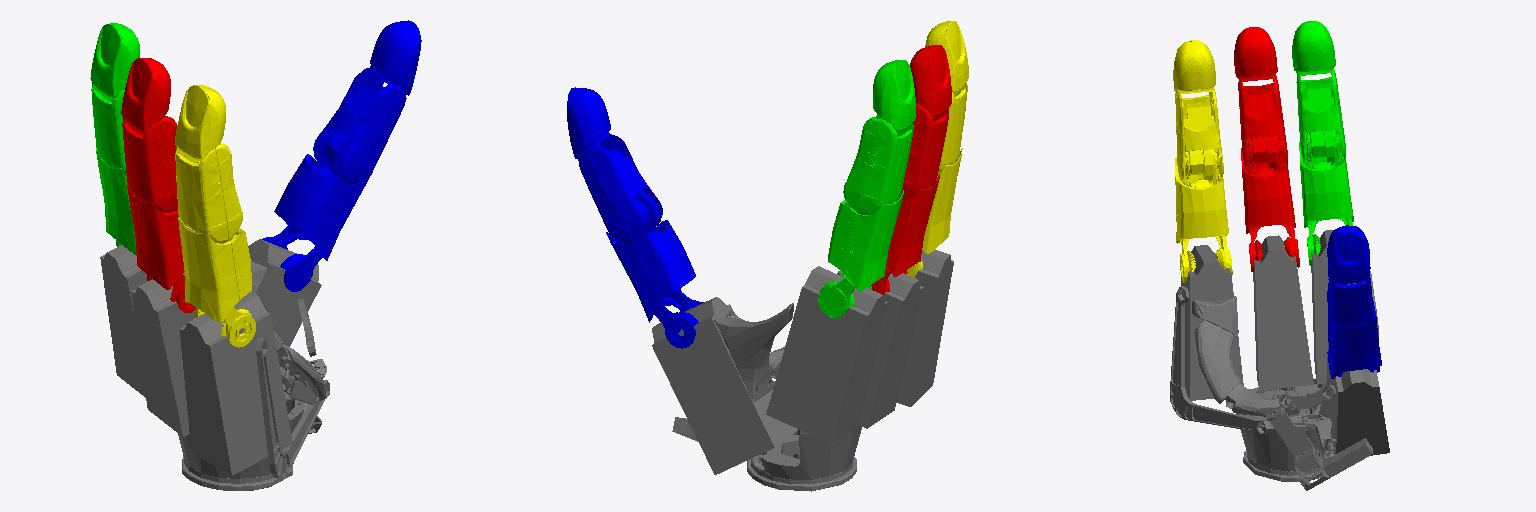
URDF robot description (hand):
<?xml version='1.0' encoding='UTF-8'?>
<robot name="hand">
  <link name="hand_base">
    <inertial>
      <origin xyz="0.0 0.0 0.0" rpy="0.0 -0.0 0.0"/>
      <mass value="1.0"/>
      <inertia ixx="0.0" ixy="0.0" ixz="0.0" iyy="0.0" iyz="0.0" izz="0.0"/>
    </inertial>
    <visual>
      <geometry>
        <mesh filename="meshes/full_hand_base_power_nosphere.obj"/>
      </geometry>
      <material name="hand_grey"/>
      <origin xyz="0.0 0.0 0.0" rpy="0.0 -0.0 0.0"/>
    </visual>
    <collision>
      <geometry>
        <mesh filename="meshes/full_hand_base_power_nosphere.obj"/>
      </geometry>
      <origin xyz="0.0 0.0 0.0" rpy="0.0 -0.0 0.0"/>
    </collision>
  </link>
  <link name="ringfinger_base_link">
    <inertial>
      <origin xyz="0.0 0.0 0.0" rpy="0.0 -0.0 0.0"/>
      <mass value="0.1"/>
      <inertia ixx="0.0" ixy="0.0" ixz="0.0" iyy="0.0" iyz="0.0" izz="0.0"/>
    </inertial>
  </link>
  <link name="ringfinger_proximal_link">
    <inertial>
      <origin xyz="0.0 0.0 0.0" rpy="0.0 -0.0 0.0"/>
      <mass value="0.0"/>
      <inertia ixx="0.0" ixy="0.0" ixz="0.0" iyy="0.0" iyz="0.0" izz="0.0"/>
    </inertial>
  </link>
  <link name="ringfinger_knuckle_link">
    <inertial>
      <origin xyz="0.0 0.0 0.0" rpy="0.0 -0.0 0.0"/>
      <mass value="0.1"/>
      <inertia ixx="0.0" ixy="0.0" ixz="0.0" iyy="0.0" iyz="0.0" izz="0.0"/>
    </inertial>
    <visual>
      <geometry>
        <mesh filename="meshes/finger_prox.stl"/>
      </geometry>
      <material name="hand_yellow"/>
      <origin xyz="0.0 0.0 0.0" rpy="-1.5707963267948966 0.0 0.0"/>
    </visual>
    <collision>
      <geometry>
        <mesh filename="meshes/finger_prox.stl"/>
      </geometry>
      <origin xyz="0.0 0.0 0.0" rpy="-1.5707963267948966 0.0 0.0"/>
    </collision>
  </link>
  <link name="ringfinger_middle_link">
    <inertial>
      <origin xyz="0.0 0.0 0.0" rpy="0.0 -0.0 0.0"/>
      <mass value="0.075"/>
      <inertia ixx="0.0" ixy="0.0" ixz="0.0" iyy="0.0" iyz="0.0" izz="0.0"/>
    </inertial>
    <visual>
      <geometry>
        <mesh filename="meshes/finger_med.stl"/>
      </geometry>
      <material name="hand_yellow"/>
      <origin xyz="0.0 0.0 0.0" rpy="-1.5707963267948966 0.0 0.0"/>
    </visual>
    <collision>
      <geometry>
        <mesh filename="meshes/finger_med.stl"/>
      </geometry>
      <origin xyz="0.0 0.0 0.0" rpy="-1.5707963267948966 0.0 0.0"/>
    </collision>
  </link>
  <link name="ringfinger_distal_link">
    <inertial>
      <origin xyz="0.0 0.0 0.0" rpy="0.0 -0.0 0.0"/>
      <mass value="0.025"/>
      <inertia ixx="0.0" ixy="0.0" ixz="0.0" iyy="0.0" iyz="0.0" izz="0.0"/>
    </inertial>
    <visual>
      <geometry>
        <mesh filename="meshes/finger_dist_cut_rot.stl" scale="0.001 0.001 0.001"/>
      </geometry>
      <material name="hand_yellow"/>
      <origin xyz="0.0 0.0 0.0" rpy="-1.5707963267948966 0.0 0.0"/>
    </visual>
    <collision>
      <geometry>
        <mesh filename="meshes/finger_dist_cut_rot.stl" scale="0.001 0.001 0.001"/>
      </geometry>
      <origin xyz="0.0 0.0 0.0" rpy="-1.5707963267948966 0.0 0.0"/>
    </collision>
  </link>
  <link name="ringfinger_virtual_distal_link">
    <inertial>
      <origin xyz="0.0 0.0 0.0" rpy="0.0 -0.0 0.0"/>
      <mass value="0.0"/>
      <inertia ixx="0.0" ixy="0.0" ixz="0.0" iyy="0.0" iyz="0.0" izz="0.0"/>
    </inertial>
  </link>
  <link name="middlefinger_base_link">
    <inertial>
      <origin xyz="0.0 0.0 0.0" rpy="0.0 -0.0 0.0"/>
      <mass value="0.1"/>
      <inertia ixx="0.0" ixy="0.0" ixz="0.0" iyy="0.0" iyz="0.0" izz="0.0"/>
    </inertial>
  </link>
  <link name="middlefinger_proximal_link">
    <inertial>
      <origin xyz="0.0 0.0 0.0" rpy="0.0 -0.0 0.0"/>
      <mass value="0.0"/>
      <inertia ixx="0.0" ixy="0.0" ixz="0.0" iyy="0.0" iyz="0.0" izz="0.0"/>
    </inertial>
  </link>
  <link name="middlefinger_knuckle_link">
    <inertial>
      <origin xyz="0.0 0.0 0.0" rpy="0.0 -0.0 0.0"/>
      <mass value="0.1"/>
      <inertia ixx="0.0" ixy="0.0" ixz="0.0" iyy="0.0" iyz="0.0" izz="0.0"/>
    </inertial>
    <visual>
      <geometry>
        <mesh filename="meshes/finger_prox.stl"/>
      </geometry>
      <material name="hand_red"/>
      <origin xyz="0.0 0.0 0.0" rpy="-1.5707963267948966 0.0 0.0"/>
    </visual>
    <collision>
      <geometry>
        <mesh filename="meshes/finger_prox.stl"/>
      </geometry>
      <origin xyz="0.0 0.0 0.0" rpy="-1.5707963267948966 0.0 0.0"/>
    </collision>
  </link>
  <link name="middlefinger_middle_link">
    <inertial>
      <origin xyz="0.0 0.0 0.0" rpy="0.0 -0.0 0.0"/>
      <mass value="0.075"/>
      <inertia ixx="0.0" ixy="0.0" ixz="0.0" iyy="0.0" iyz="0.0" izz="0.0"/>
    </inertial>
    <visual>
      <geometry>
        <mesh filename="meshes/finger_med.stl"/>
      </geometry>
      <material name="hand_red"/>
      <origin xyz="0.0 0.0 0.0" rpy="-1.5707963267948966 0.0 0.0"/>
    </visual>
    <collision>
      <geometry>
        <mesh filename="meshes/finger_med.stl"/>
      </geometry>
      <origin xyz="0.0 0.0 0.0" rpy="-1.5707963267948966 0.0 0.0"/>
    </collision>
  </link>
  <link name="middlefinger_distal_link">
    <inertial>
      <origin xyz="0.0 0.0 0.0" rpy="0.0 -0.0 0.0"/>
      <mass value="0.025"/>
      <inertia ixx="0.0" ixy="0.0" ixz="0.0" iyy="0.0" iyz="0.0" izz="0.0"/>
    </inertial>
    <visual>
      <geometry>
        <mesh filename="meshes/finger_dist_cut_rot.stl" scale="0.001 0.001 0.001"/>
      </geometry>
      <material name="hand_red"/>
      <origin xyz="0.0 0.0 0.0" rpy="-1.5707963267948966 0.0 0.0"/>
    </visual>
    <collision>
      <geometry>
        <mesh filename="meshes/finger_dist_cut_rot.stl" scale="0.001 0.001 0.001"/>
      </geometry>
      <origin xyz="0.0 0.0 0.0" rpy="-1.5707963267948966 0.0 0.0"/>
    </collision>
  </link>
  <link name="middlefinger_virtual_distal_link">
    <inertial>
      <origin xyz="0.0 0.0 0.0" rpy="0.0 -0.0 0.0"/>
      <mass value="0.0"/>
      <inertia ixx="0.0" ixy="0.0" ixz="0.0" iyy="0.0" iyz="0.0" izz="0.0"/>
    </inertial>
  </link>
  <link name="forefinger_base_link">
    <inertial>
      <origin xyz="0.0 0.0 0.0" rpy="0.0 -0.0 0.0"/>
      <mass value="0.1"/>
      <inertia ixx="0.0" ixy="0.0" ixz="0.0" iyy="0.0" iyz="0.0" izz="0.0"/>
    </inertial>
  </link>
  <link name="forefinger_proximal_link">
    <inertial>
      <origin xyz="0.0 0.0 0.0" rpy="0.0 -0.0 0.0"/>
      <mass value="0.0"/>
      <inertia ixx="0.0" ixy="0.0" ixz="0.0" iyy="0.0" iyz="0.0" izz="0.0"/>
    </inertial>
  </link>
  <link name="forefinger_knuckle_link">
    <inertial>
      <origin xyz="0.0 0.0 0.0" rpy="0.0 -0.0 0.0"/>
      <mass value="0.1"/>
      <inertia ixx="0.0" ixy="0.0" ixz="0.0" iyy="0.0" iyz="0.0" izz="0.0"/>
    </inertial>
    <visual>
      <geometry>
        <mesh filename="meshes/finger_prox.stl"/>
      </geometry>
      <material name="hand_green"/>
      <origin xyz="0.0 0.0 0.0" rpy="-1.5707963267948966 0.0 0.0"/>
    </visual>
    <collision>
      <geometry>
        <mesh filename="meshes/finger_prox.stl"/>
      </geometry>
      <origin xyz="0.0 0.0 0.0" rpy="-1.5707963267948966 0.0 0.0"/>
    </collision>
  </link>
  <link name="forefinger_middle_link">
    <inertial>
      <origin xyz="0.0 0.0 0.0" rpy="0.0 -0.0 0.0"/>
      <mass value="0.075"/>
      <inertia ixx="0.0" ixy="0.0" ixz="0.0" iyy="0.0" iyz="0.0" izz="0.0"/>
    </inertial>
    <visual>
      <geometry>
        <mesh filename="meshes/finger_med.stl"/>
      </geometry>
      <material name="hand_green"/>
      <origin xyz="0.0 0.0 0.0" rpy="-1.5707963267948966 0.0 0.0"/>
    </visual>
    <collision>
      <geometry>
        <mesh filename="meshes/finger_med.stl"/>
      </geometry>
      <origin xyz="0.0 0.0 0.0" rpy="-1.5707963267948966 0.0 0.0"/>
    </collision>
  </link>
  <link name="forefinger_distal_link">
    <inertial>
      <origin xyz="0.0 0.0 0.0" rpy="0.0 -0.0 0.0"/>
      <mass value="0.025"/>
      <inertia ixx="0.0" ixy="0.0" ixz="0.0" iyy="0.0" iyz="0.0" izz="0.0"/>
    </inertial>
    <visual>
      <geometry>
        <mesh filename="meshes/finger_dist_cut_rot.stl" scale="0.001 0.001 0.001"/>
      </geometry>
      <material name="hand_green"/>
      <origin xyz="0.0 0.0 0.0" rpy="-1.5707963267948966 0.0 0.0"/>
    </visual>
    <collision>
      <geometry>
        <mesh filename="meshes/finger_dist_cut_rot.stl" scale="0.001 0.001 0.001"/>
      </geometry>
      <origin xyz="0.0 0.0 0.0" rpy="-1.5707963267948966 0.0 0.0"/>
    </collision>
  </link>
  <link name="forefinger_virtual_distal_link">
    <inertial>
      <origin xyz="0.0 0.0 0.0" rpy="0.0 -0.0 0.0"/>
      <mass value="0.0"/>
      <inertia ixx="0.0" ixy="0.0" ixz="0.0" iyy="0.0" iyz="0.0" izz="0.0"/>
    </inertial>
  </link>
  <link name="thumb_base_link">
    <inertial>
      <origin xyz="0.0 0.0 0.0" rpy="0.0 -0.0 0.0"/>
      <mass value="0.1"/>
      <inertia ixx="0.0" ixy="0.0" ixz="0.0" iyy="0.0" iyz="0.0" izz="0.0"/>
    </inertial>
  </link>
  <link name="thumb_proximal_link">
    <inertial>
      <origin xyz="0.0 0.0 0.0" rpy="0.0 -0.0 0.0"/>
      <mass value="0.0"/>
      <inertia ixx="0.0" ixy="0.0" ixz="0.0" iyy="0.0" iyz="0.0" izz="0.0"/>
    </inertial>
  </link>
  <link name="thumb_knuckle_link">
    <inertial>
      <origin xyz="0.0 0.0 0.0" rpy="0.0 -0.0 0.0"/>
      <mass value="0.1"/>
      <inertia ixx="0.0" ixy="0.0" ixz="0.0" iyy="0.0" iyz="0.0" izz="0.0"/>
    </inertial>
    <visual>
      <geometry>
        <mesh filename="meshes/finger_prox.stl"/>
      </geometry>
      <material name="hand_blue"/>
      <origin xyz="0.0 0.0 0.0" rpy="-1.5707963267948966 0.0 0.0"/>
    </visual>
    <collision>
      <geometry>
        <mesh filename="meshes/finger_prox.stl"/>
      </geometry>
      <origin xyz="0.0 0.0 0.0" rpy="-1.5707963267948966 0.0 0.0"/>
    </collision>
  </link>
  <link name="thumb_middle_link">
    <inertial>
      <origin xyz="0.0 0.0 0.0" rpy="0.0 -0.0 0.0"/>
      <mass value="0.075"/>
      <inertia ixx="0.0" ixy="0.0" ixz="0.0" iyy="0.0" iyz="0.0" izz="0.0"/>
    </inertial>
    <visual>
      <geometry>
        <mesh filename="meshes/finger_med.stl"/>
      </geometry>
      <material name="hand_blue"/>
      <origin xyz="0.0 0.0 0.0" rpy="-1.5707963267948966 0.0 0.0"/>
    </visual>
    <collision>
      <geometry>
        <mesh filename="meshes/finger_med.stl"/>
      </geometry>
      <origin xyz="0.0 0.0 0.0" rpy="-1.5707963267948966 0.0 0.0"/>
    </collision>
  </link>
  <link name="thumb_distal_link">
    <inertial>
      <origin xyz="0.0 0.0 0.0" rpy="0.0 -0.0 0.0"/>
      <mass value="0.025"/>
      <inertia ixx="0.0" ixy="0.0" ixz="0.0" iyy="0.0" iyz="0.0" izz="0.0"/>
    </inertial>
    <visual>
      <geometry>
        <mesh filename="meshes/finger_dist_cut_rot.stl" scale="0.001 0.001 0.001"/>
      </geometry>
      <material name="hand_blue"/>
      <origin xyz="0.0 0.0 0.0" rpy="-1.5707963267948966 0.0 0.0"/>
    </visual>
    <collision>
      <geometry>
        <mesh filename="meshes/finger_dist_cut_rot.stl" scale="0.001 0.001 0.001"/>
      </geometry>
      <origin xyz="0.0 0.0 0.0" rpy="-1.5707963267948966 0.0 0.0"/>
    </collision>
  </link>
  <link name="thumb_virtual_distal_link">
    <inertial>
      <origin xyz="0.0 0.0 0.0" rpy="0.0 -0.0 0.0"/>
      <mass value="0.0"/>
      <inertia ixx="0.0" ixy="0.0" ixz="0.0" iyy="0.0" iyz="0.0" izz="0.0"/>
    </inertial>
  </link>
  <joint name="ringfinger_base_transformation_fixed" type="fixed">
    <parent link="hand_base"/>
    <child link="ringfinger_base_link"/>
    <axis xyz="1. 0. 0."/>
    <origin xyz="-0.042706994 -0.058843152 0.127808675" rpy="-0.23069517568612555 -1.398817179145397 -2.7612295098394055"/>
  </joint>
  <joint name="ringfinger_proximal_joint" type="revolute">
    <limit effort="1000.0" velocity="1000.0" lower="-0.5235987755982988" upper="0.5235987755982988"/>
    <parent link="ringfinger_base_link"/>
    <child link="ringfinger_proximal_link"/>
    <axis xyz="0. 0. 1."/>
    <origin xyz="0.0 -0.0 0.0" rpy="0.0 -0.0 0.0"/>
  </joint>
  <joint name="ringfinger_knuckle_joint" type="revolute">
    <limit effort="1000.0" velocity="1000.0" lower="-0.3490658503988659" upper="1.5009831567151235"/>
    <parent link="ringfinger_proximal_link"/>
    <child link="ringfinger_knuckle_link"/>
    <axis xyz="0. 0. 1."/>
    <origin xyz="0.0 -0.0 0.0" rpy="1.5707963267948966 -0.0 0.0"/>
  </joint>
  <joint name="ringfinger_middle_joint" type="revolute">
    <limit effort="1000.0" velocity="1000.0" lower="-0.17453292519943295" upper="1.8325957145940461"/>
    <parent link="ringfinger_knuckle_link"/>
    <child link="ringfinger_middle_link"/>
    <axis xyz="0. 0. 1."/>
    <origin xyz="0.075 -0.0 0.0" rpy="0.0 -0.0 0.0"/>
  </joint>
  <joint name="ringfinger_distal_joint_passive" type="revolute">
    <limit effort="1000.0" velocity="1000.0" lower="-0.17453292519943295" upper="1.8325957145940461"/>
    <parent link="ringfinger_middle_link"/>
    <child link="ringfinger_distal_link"/>
    <axis xyz="0. 0. 1."/>
    <origin xyz="0.04 -0.0 0.0" rpy="0.0 0.0 -1.5707963267948966"/>
  </joint>
  <joint name="ringfinger_virtual_distal_joint_fixed" type="fixed">
    <parent link="ringfinger_distal_link"/>
    <child link="ringfinger_virtual_distal_link"/>
    <axis xyz="1. 0. 0."/>
    <origin xyz="0.0 0.0 0.0" rpy="0.0 -0.0 0.0"/>
  </joint>
  <joint name="middlefinger_base_transformation_fixed" type="fixed">
    <parent link="hand_base"/>
    <child link="middlefinger_base_link"/>
    <axis xyz="1. 0. 0."/>
    <origin xyz="-0.048151365 -0.012101809 0.133300263" rpy="-0.38464095936834725 -1.337289794013638 -2.708519622653562"/>
  </joint>
  <joint name="middlefinger_proximal_joint" type="revolute">
    <limit effort="1000.0" velocity="1000.0" lower="-0.5235987755982988" upper="0.5235987755982988"/>
    <parent link="middlefinger_base_link"/>
    <child link="middlefinger_proximal_link"/>
    <axis xyz="0. 0. 1."/>
    <origin xyz="0.0 -0.0 0.0" rpy="0.0 -0.0 0.0"/>
  </joint>
  <joint name="middlefinger_knuckle_joint" type="revolute">
    <limit effort="1000.0" velocity="1000.0" lower="-0.3490658503988659" upper="1.5009831567151235"/>
    <parent link="middlefinger_proximal_link"/>
    <child link="middlefinger_knuckle_link"/>
    <axis xyz="0. 0. 1."/>
    <origin xyz="0.0 -0.0 0.0" rpy="1.5707963267948966 -0.0 0.0"/>
  </joint>
  <joint name="middlefinger_middle_joint" type="revolute">
    <limit effort="1000.0" velocity="1000.0" lower="-0.17453292519943295" upper="1.8325957145940461"/>
    <parent link="middlefinger_knuckle_link"/>
    <child link="middlefinger_middle_link"/>
    <axis xyz="0. 0. 1."/>
    <origin xyz="0.075 -0.0 0.0" rpy="0.0 -0.0 0.0"/>
  </joint>
  <joint name="middlefinger_distal_joint_passive" type="revolute">
    <limit effort="1000.0" velocity="1000.0" lower="-0.17453292519943295" upper="1.8325957145940461"/>
    <parent link="middlefinger_middle_link"/>
    <child link="middlefinger_distal_link"/>
    <axis xyz="0. 0. 1."/>
    <origin xyz="0.04 -0.0 0.0" rpy="0.0 0.0 -1.5707963267948966"/>
  </joint>
  <joint name="middlefinger_virtual_distal_joint_fixed" type="fixed">
    <parent link="middlefinger_distal_link"/>
    <child link="middlefinger_virtual_distal_link"/>
    <axis xyz="1. 0. 0."/>
    <origin xyz="0.0 0.0 0.0" rpy="0.0 -0.0 0.0"/>
  </joint>
  <joint name="forefinger_base_transformation_fixed" type="fixed">
    <parent link="hand_base"/>
    <child link="forefinger_base_link"/>
    <axis xyz="1. 0. 0."/>
    <origin xyz="-0.045982316 0.027691585 0.138843566" rpy="-0.38464095936834725 -1.337289794013638 -2.708519622653562"/>
  </joint>
  <joint name="forefinger_proximal_joint" type="revolute">
    <limit effort="1000.0" velocity="1000.0" lower="-0.5235987755982988" upper="0.5235987755982988"/>
    <parent link="forefinger_base_link"/>
    <child link="forefinger_proximal_link"/>
    <axis xyz="0. 0. 1."/>
    <origin xyz="0.0 -0.0 0.0" rpy="0.0 -0.0 0.0"/>
  </joint>
  <joint name="forefinger_knuckle_joint" type="revolute">
    <limit effort="1000.0" velocity="1000.0" lower="-0.3490658503988659" upper="1.5009831567151235"/>
    <parent link="forefinger_proximal_link"/>
    <child link="forefinger_knuckle_link"/>
    <axis xyz="0. 0. 1."/>
    <origin xyz="0.0 -0.0 0.0" rpy="1.5707963267948966 -0.0 0.0"/>
  </joint>
  <joint name="forefinger_middle_joint" type="revolute">
    <limit effort="1000.0" velocity="1000.0" lower="-0.17453292519943295" upper="1.8325957145940461"/>
    <parent link="forefinger_knuckle_link"/>
    <child link="forefinger_middle_link"/>
    <axis xyz="0. 0. 1."/>
    <origin xyz="0.075 -0.0 0.0" rpy="0.0 -0.0 0.0"/>
  </joint>
  <joint name="forefinger_distal_joint_passive" type="revolute">
    <limit effort="1000.0" velocity="1000.0" lower="-0.17453292519943295" upper="1.8325957145940461"/>
    <parent link="forefinger_middle_link"/>
    <child link="forefinger_distal_link"/>
    <axis xyz="0. 0. 1."/>
    <origin xyz="0.04 -0.0 0.0" rpy="0.0 0.0 -1.5707963267948966"/>
  </joint>
  <joint name="forefinger_virtual_distal_joint_fixed" type="fixed">
    <parent link="forefinger_distal_link"/>
    <child link="forefinger_virtual_distal_link"/>
    <axis xyz="1. 0. 0."/>
    <origin xyz="0.0 0.0 0.0" rpy="0.0 -0.0 0.0"/>
  </joint>
  <joint name="thumb_base_transformation_fixed" type="fixed">
    <parent link="hand_base"/>
    <child link="thumb_base_link"/>
    <axis xyz="1. 0. 0."/>
    <origin xyz="0.054208442 0.041554306 0.100969167" rpy="0.1831822312812139 -0.9911948796858158 -0.037995938272615944"/>
  </joint>
  <joint name="thumb_proximal_joint" type="revolute">
    <limit effort="1000.0" velocity="1000.0" lower="-0.5235987755982988" upper="0.5235987755982988"/>
    <parent link="thumb_base_link"/>
    <child link="thumb_proximal_link"/>
    <axis xyz="0. 0. 1."/>
    <origin xyz="0.0 -0.0 0.0" rpy="0.0 -0.0 0.0"/>
  </joint>
  <joint name="thumb_knuckle_joint" type="revolute">
    <limit effort="1000.0" velocity="1000.0" lower="-0.3490658503988659" upper="1.5009831567151235"/>
    <parent link="thumb_proximal_link"/>
    <child link="thumb_knuckle_link"/>
    <axis xyz="0. 0. 1."/>
    <origin xyz="0.0 -0.0 0.0" rpy="1.5707963267948966 -0.0 0.0"/>
  </joint>
  <joint name="thumb_middle_joint" type="revolute">
    <limit effort="1000.0" velocity="1000.0" lower="-0.17453292519943295" upper="1.8325957145940461"/>
    <parent link="thumb_knuckle_link"/>
    <child link="thumb_middle_link"/>
    <axis xyz="0. 0. 1."/>
    <origin xyz="0.075 -0.0 0.0" rpy="0.0 -0.0 0.0"/>
  </joint>
  <joint name="thumb_distal_joint_passive" type="revolute">
    <limit effort="1000.0" velocity="1000.0" lower="-0.17453292519943295" upper="1.8325957145940461"/>
    <parent link="thumb_middle_link"/>
    <child link="thumb_distal_link"/>
    <axis xyz="0. 0. 1."/>
    <origin xyz="0.04 -0.0 0.0" rpy="0.0 0.0 -1.5707963267948966"/>
  </joint>
  <joint name="thumb_virtual_distal_joint_fixed" type="fixed">
    <parent link="thumb_distal_link"/>
    <child link="thumb_virtual_distal_link"/>
    <axis xyz="1. 0. 0."/>
    <origin xyz="0.0 0.0 0.0" rpy="0.0 -0.0 0.0"/>
  </joint>
  <material name="base_and_dock_material">
    <color rgba="0.  0.  0.5 1. "/>
  </material>
  <material name="hand_red">
    <color rgba="1. 0. 0. 1."/>
  </material>
  <material name="hand_blue">
    <color rgba="0. 0. 1. 1."/>
  </material>
  <material name="hand_green">
    <color rgba="0. 1. 0. 1."/>
  </material>
  <material name="hand_yellow">
    <color rgba="1. 1. 0. 1."/>
  </material>
  <material name="hand_purple">
    <color rgba="1. 0. 1. 1."/>
  </material>
  <material name="hand_grey">
    <color rgba="0.5 0.5 0.5 1. "/>
  </material>
  <material name="hand_turquoise">
    <color rgba="0. 1. 1. 1."/>
  </material>
</robot>

--- Render facts (derived) ---
The picture shows the robot from 3 angles, left to right: view 1: azimuth 30°, elevation 25°; view 2: azimuth 150°, elevation 25°; view 3: azimuth 270°, elevation 25°; orthographic projection.
Model hand with 25 links and 24 joints (16 revolute, 8 fixed), rooted at hand_base, posed all joints at 0.
Visible links, largest first — view 1: hand_base, thumb_knuckle_link, ringfinger_knuckle_link, thumb_middle_link, ringfinger_middle_link, middlefinger_middle_link, middlefinger_knuckle_link, ringfinger_distal_link, middlefinger_distal_link, thumb_distal_link, forefinger_distal_link, forefinger_knuckle_link (+1 smaller); view 2: hand_base, thumb_knuckle_link, forefinger_knuckle_link, thumb_middle_link, forefinger_middle_link, middlefinger_knuckle_link, middlefinger_middle_link, forefinger_distal_link, middlefinger_distal_link, thumb_distal_link, ringfinger_knuckle_link, ringfinger_distal_link (+1 smaller); view 3: hand_base, ringfinger_knuckle_link, middlefinger_knuckle_link, forefinger_knuckle_link, ringfinger_middle_link, middlefinger_middle_link, forefinger_middle_link, thumb_knuckle_link, thumb_distal_link, middlefinger_distal_link, forefinger_distal_link, thumb_middle_link (+1 smaller).
Boxes of the visible links, x1=… form: hand_base: x1=100, y1=239, x2=329, y2=490; thumb_knuckle_link: x1=262, y1=128, x2=372, y2=291; ringfinger_knuckle_link: x1=178, y1=217, x2=255, y2=347; thumb_middle_link: x1=313, y1=68, x2=406, y2=183; ringfinger_middle_link: x1=175, y1=144, x2=242, y2=243; middlefinger_middle_link: x1=122, y1=116, x2=177, y2=212; middlefinger_knuckle_link: x1=127, y1=184, x2=194, y2=312; ringfinger_distal_link: x1=175, y1=85, x2=225, y2=159; middlefinger_distal_link: x1=121, y1=58, x2=170, y2=131; thumb_distal_link: x1=370, y1=20, x2=421, y2=95; forefinger_distal_link: x1=90, y1=23, x2=139, y2=97; forefinger_knuckle_link: x1=96, y1=149, x2=136, y2=255; hand_base: x1=652, y1=250, x2=953, y2=491; thumb_knuckle_link: x1=606, y1=196, x2=703, y2=348; forefinger_knuckle_link: x1=818, y1=190, x2=903, y2=317; thumb_middle_link: x1=578, y1=134, x2=662, y2=243; forefinger_middle_link: x1=843, y1=117, x2=913, y2=214; middlefinger_knuckle_link: x1=871, y1=174, x2=939, y2=294; middlefinger_middle_link: x1=901, y1=104, x2=948, y2=199; forefinger_distal_link: x1=873, y1=60, x2=915, y2=130; middlefinger_distal_link: x1=910, y1=45, x2=951, y2=115; thumb_distal_link: x1=567, y1=87, x2=610, y2=158; ringfinger_knuckle_link: x1=907, y1=148, x2=962, y2=277; ringfinger_distal_link: x1=925, y1=21, x2=968, y2=91; hand_base: x1=1170, y1=230, x2=1389, y2=490; ringfinger_knuckle_link: x1=1175, y1=149, x2=1232, y2=282; middlefinger_knuckle_link: x1=1241, y1=136, x2=1299, y2=271; forefinger_knuckle_link: x1=1299, y1=130, x2=1353, y2=265; ringfinger_middle_link: x1=1175, y1=89, x2=1223, y2=181; middlefinger_middle_link: x1=1238, y1=74, x2=1287, y2=169; forefinger_middle_link: x1=1296, y1=68, x2=1345, y2=163; thumb_knuckle_link: x1=1327, y1=301, x2=1381, y2=378; thumb_distal_link: x1=1327, y1=225, x2=1370, y2=282; middlefinger_distal_link: x1=1234, y1=27, x2=1277, y2=81; forefinger_distal_link: x1=1292, y1=21, x2=1335, y2=75; thumb_middle_link: x1=1327, y1=265, x2=1373, y2=325.
Size in the robot's own frame: 0.2269 by 0.1511 by 0.3002 metres.
Meshes: 4 distinct files referenced, 13 mesh visuals loaded (3 binary STL, 1 OBJ).